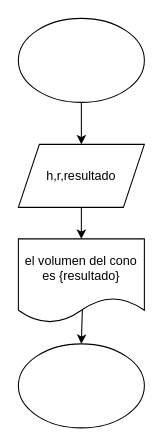
This 163x446 diagram has some shape labels left out. Here are the shapes that lost their labels. From the top down, the centre of each, then its label:
At [80,59]: "inicio".
At [80,385]: "salir".
